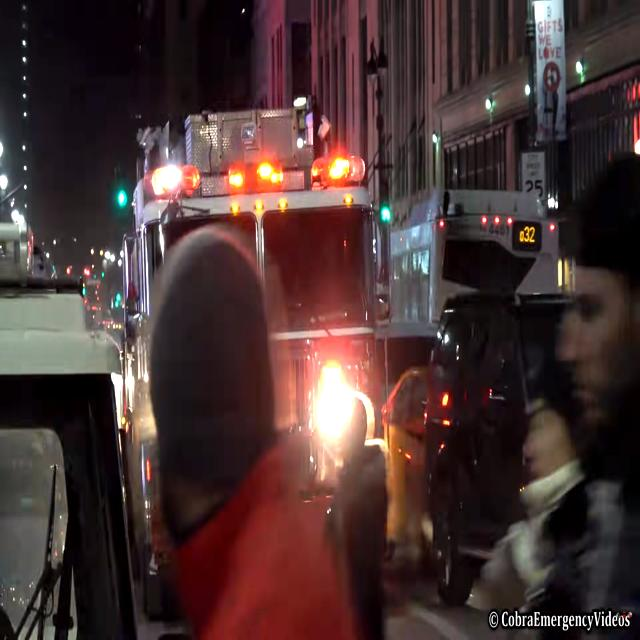emergency-vehicles: (100, 93, 396, 416)
